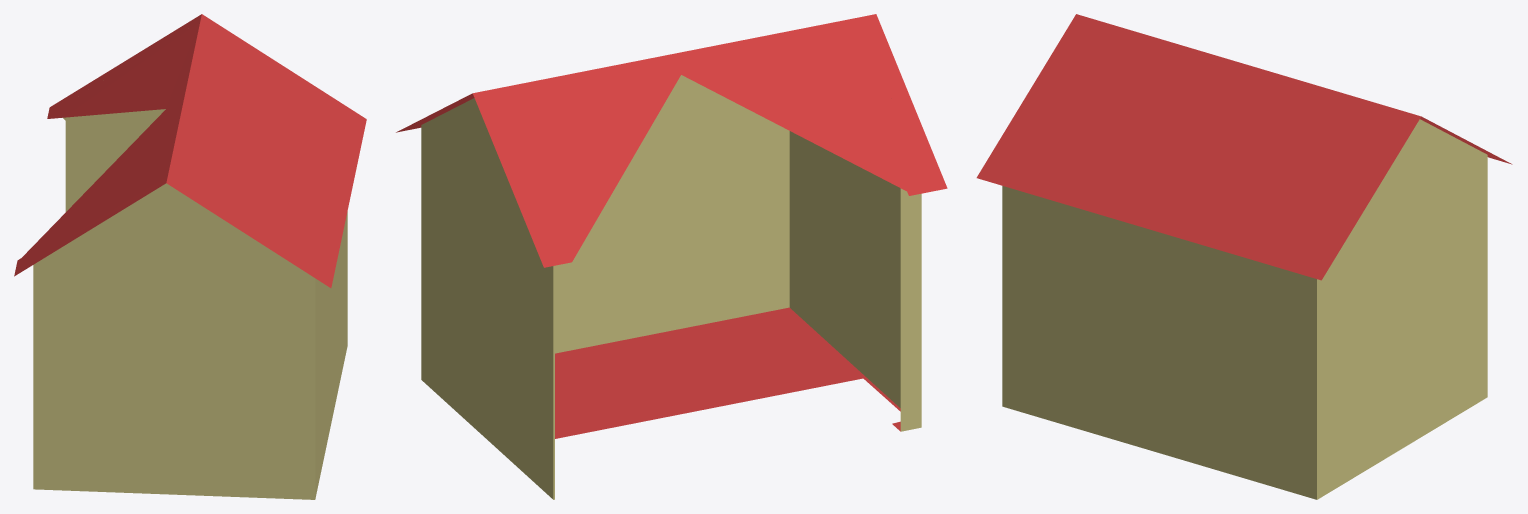
3 views of the same model, side by side, from view 1: azimuth 30°, elevation 25°; view 2: azimuth 150°, elevation 25°; view 3: azimuth 270°, elevation 25° (orthographic). The views are drawn at different scales.
Bounding box in the file's own units: 13.92 × 14.5 × 9.96.
